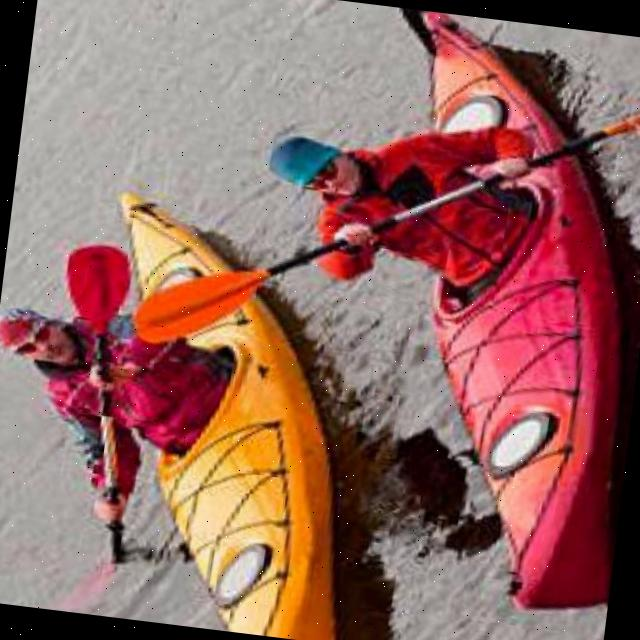kayak: (70, 193, 341, 640), (437, 155, 624, 608), (413, 9, 564, 152)
